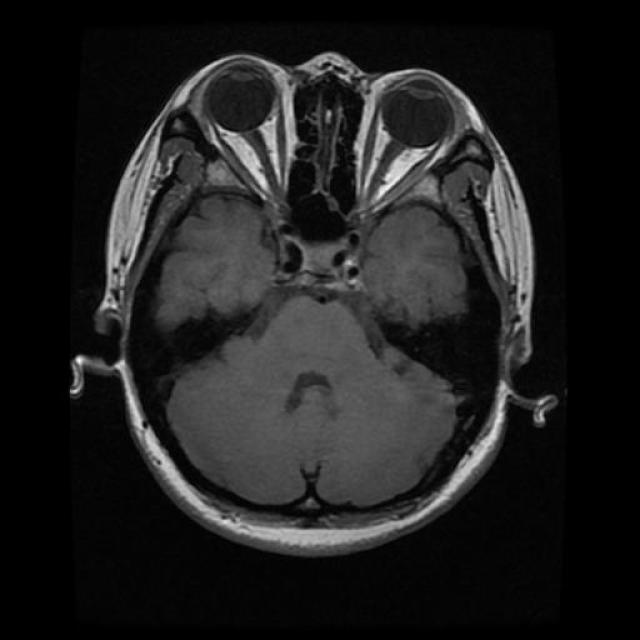pituitary: (262, 236, 390, 306)
